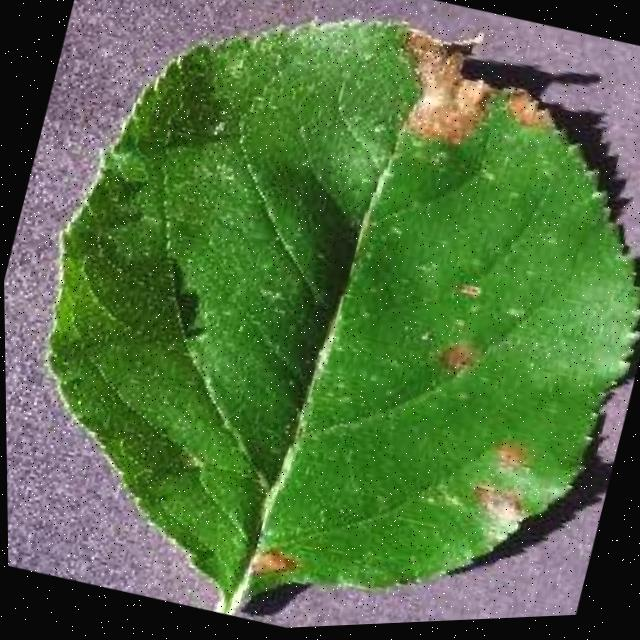black_rot: (369, 0, 587, 190), (444, 468, 539, 551), (418, 313, 501, 400), (232, 525, 300, 593), (483, 426, 541, 484), (450, 259, 503, 311)
